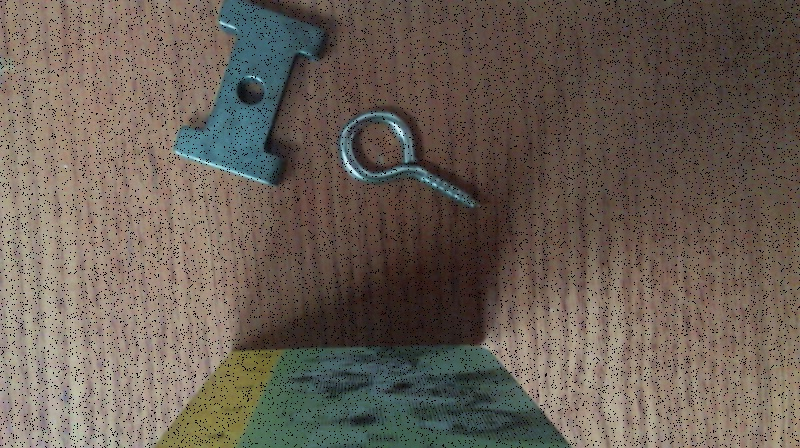O001: (335, 107, 483, 211)
O002: (170, 0, 329, 189)
